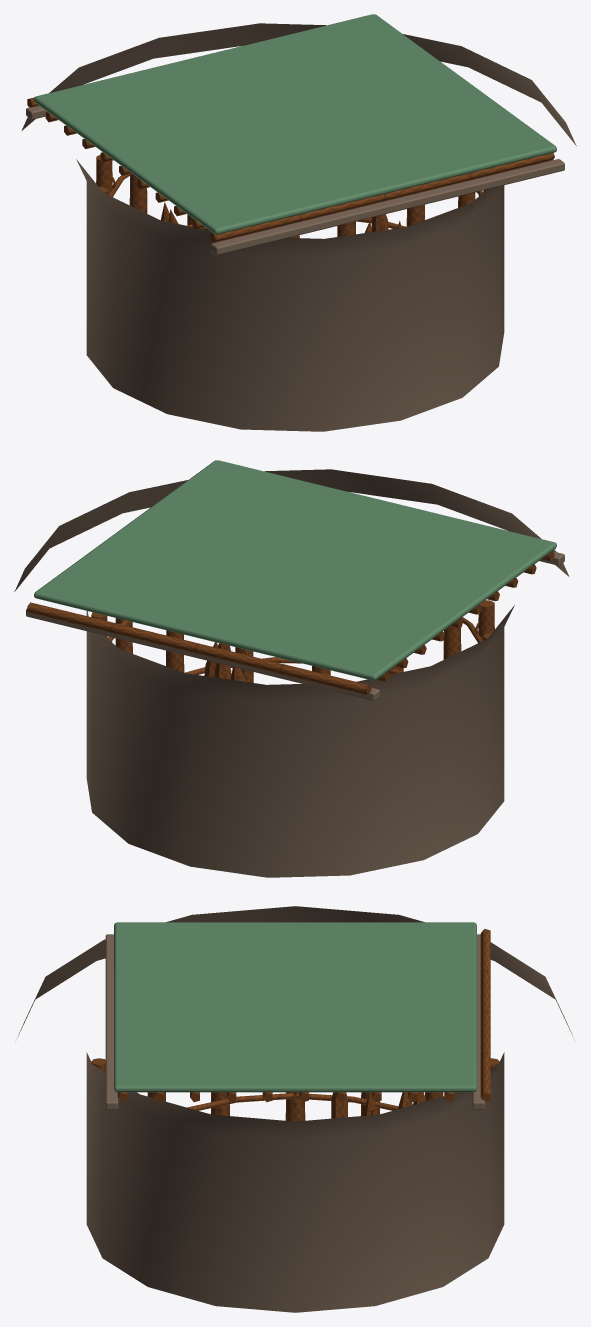
The model's file is fps-survival-forest-outpost-spike-pit-20ee2b42__32645.glb.
3 views of the same model, one above another, from view 1: azimuth 30°, elevation 25°; view 2: azimuth 150°, elevation 25°; view 3: azimuth 270°, elevation 25° (orthographic).
Parts seen in each view (by area): view 1: spike-pit, hatch/foliage, hatch/bark, hatch/timber; view 2: spike-pit, hatch/foliage, hatch/timber, hatch/bark; view 3: spike-pit, hatch/foliage, hatch/timber, hatch/bark.
Part boxes in pixels (x1,y1,x2,y2): spike-pit: (21, 23, 576, 431); hatch/foliage: (34, 14, 556, 234); hatch/bark: (26, 105, 564, 254); hatch/timber: (27, 97, 554, 242); spike-pit: (14, 469, 569, 877); hatch/foliage: (34, 460, 556, 680); hatch/timber: (27, 551, 554, 694); hatch/bark: (26, 551, 564, 700); spike-pit: (15, 906, 575, 1312); hatch/foliage: (114, 922, 476, 1092); hatch/timber: (117, 929, 490, 1102); hatch/bark: (105, 934, 485, 1109).
Size of the model in its own units: 3.1 by 1.34 by 3.1.
Materials: 3 (1 with a texture image).
